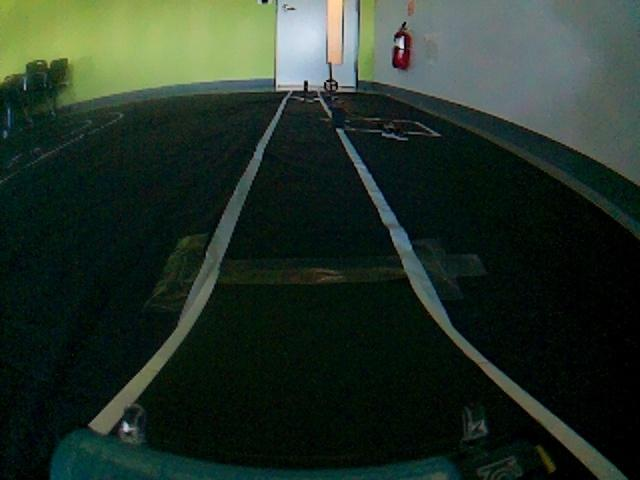go: (174, 135, 457, 302)
hill_down: (59, 307, 618, 480)
